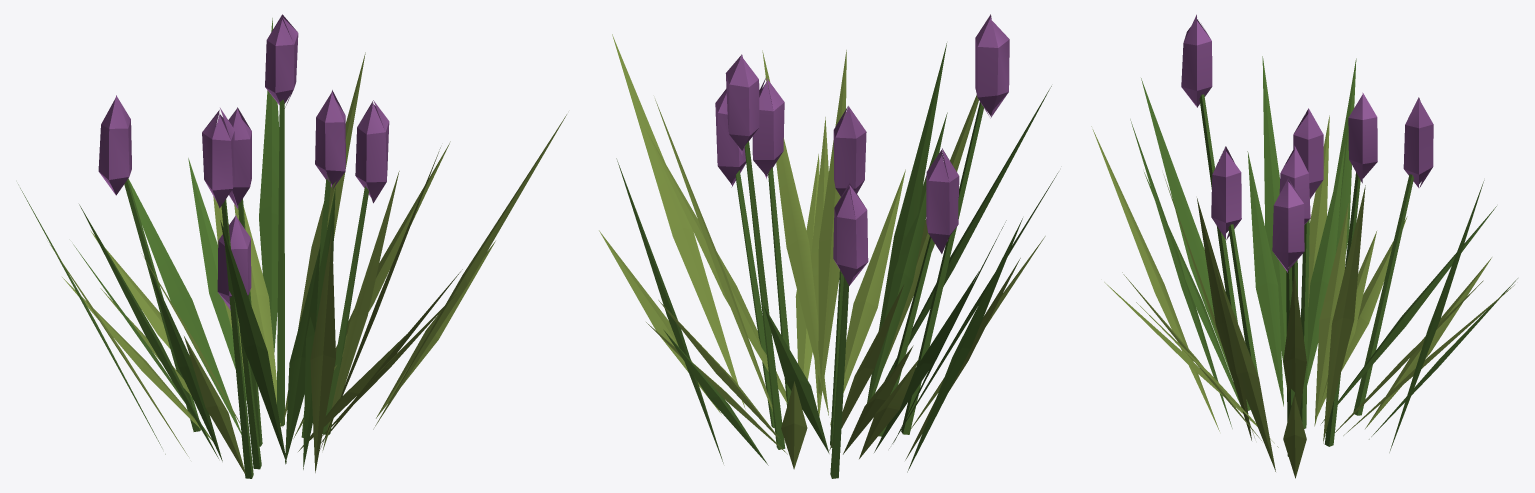
Rendered from coastal-grass.glb.
3 renders of one model, left to right at view 1: azimuth 30°, elevation 25°; view 2: azimuth 150°, elevation 25°; view 3: azimuth 270°, elevation 25°, orthographic. The views are drawn at different scales.
Parts seen in each view (by area): view 1: coastal-grass; view 2: coastal-grass; view 3: coastal-grass.
Part boxes in pixels (x1,y1,x2,y2): coastal-grass: [18, 14, 566, 478]; coastal-grass: [599, 14, 1058, 478]; coastal-grass: [1091, 14, 1517, 478].
Bounding box in the file's own units: 1.03 × 0.8298 × 0.8683.
